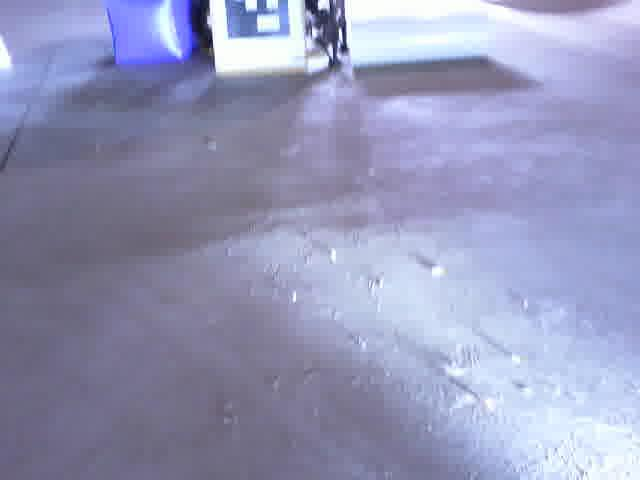coral: (350, 0, 489, 69)
